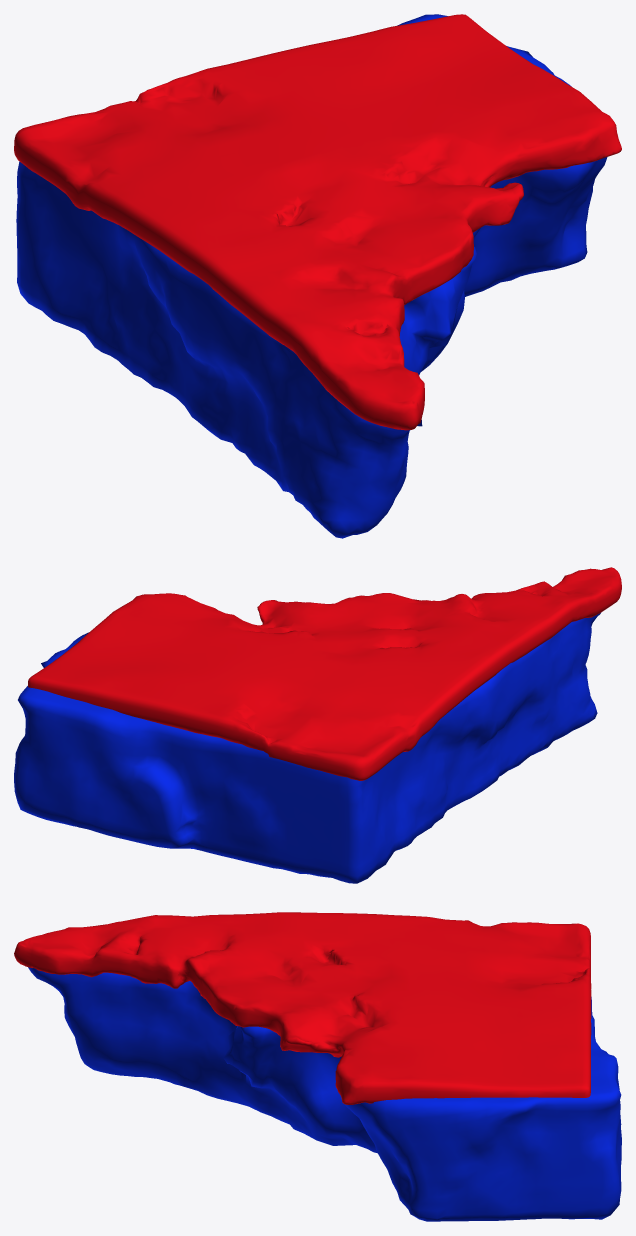
Rendered from BP_ConcreteFloor_2.fbx.
3 views of the same model, one above another, from view 1: azimuth 30°, elevation 25°; view 2: azimuth 150°, elevation 25°; view 3: azimuth 270°, elevation 25° (orthographic). The views are drawn at different scales.
Parts seen in each view (by area): view 1: BP_ConcreteFloor_2; view 2: BP_ConcreteFloor_2; view 3: BP_ConcreteFloor_2.
Boxes of the visible parts, left/top/right/bottom form: BP_ConcreteFloor_2: left=14, top=14, right=621, bottom=538; BP_ConcreteFloor_2: left=14, top=567, right=621, bottom=883; BP_ConcreteFloor_2: left=14, top=912, right=621, bottom=1221.
Size of the model in its own units: 528 by 201 by 746.
